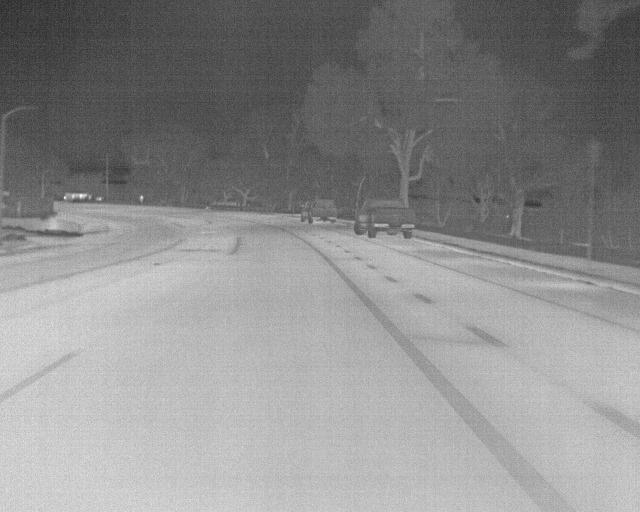car: (353, 195, 416, 239), (299, 197, 338, 225)
